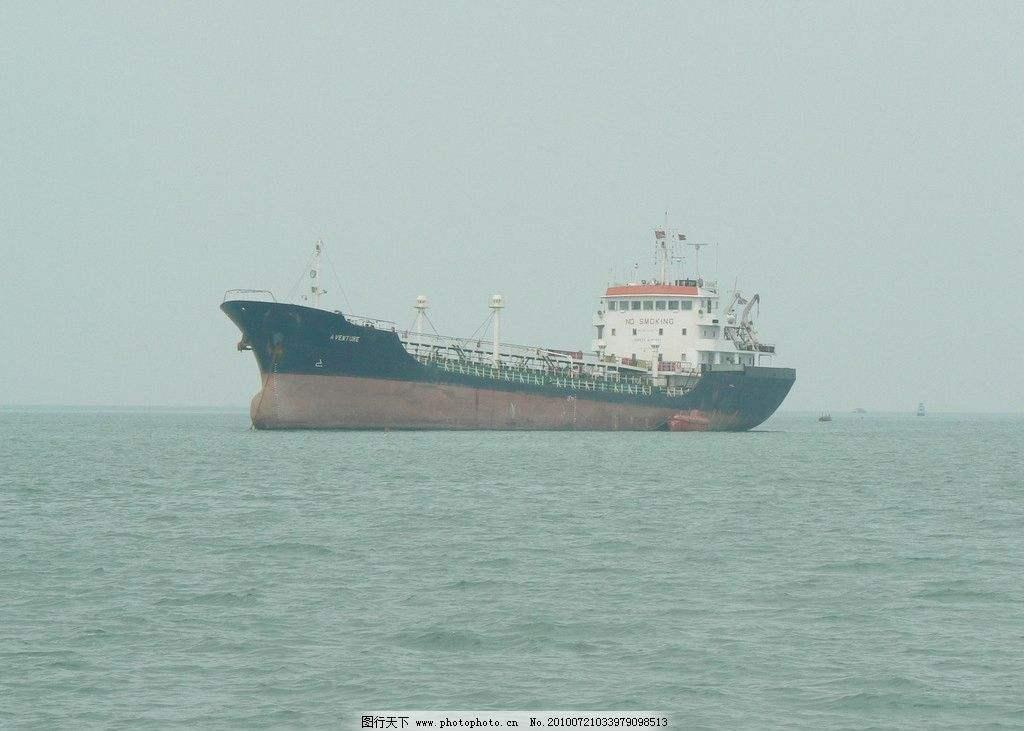Cargoship: (215, 189, 801, 441)
